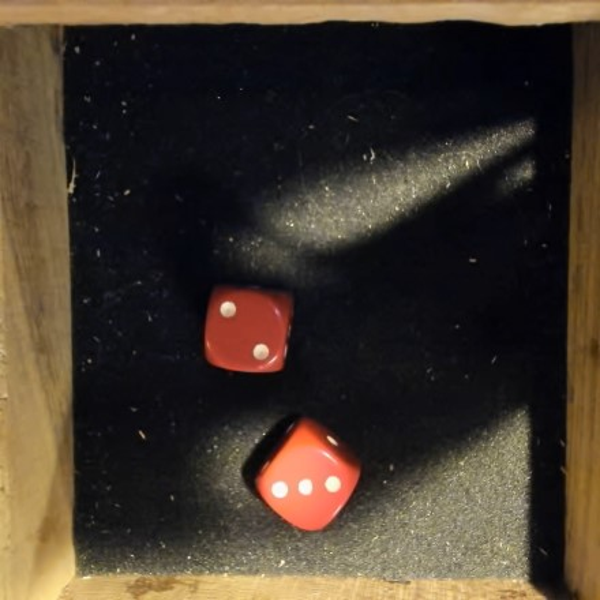red_die_pip2: (200, 282, 293, 376)
red_die_pip3: (236, 406, 372, 542)
